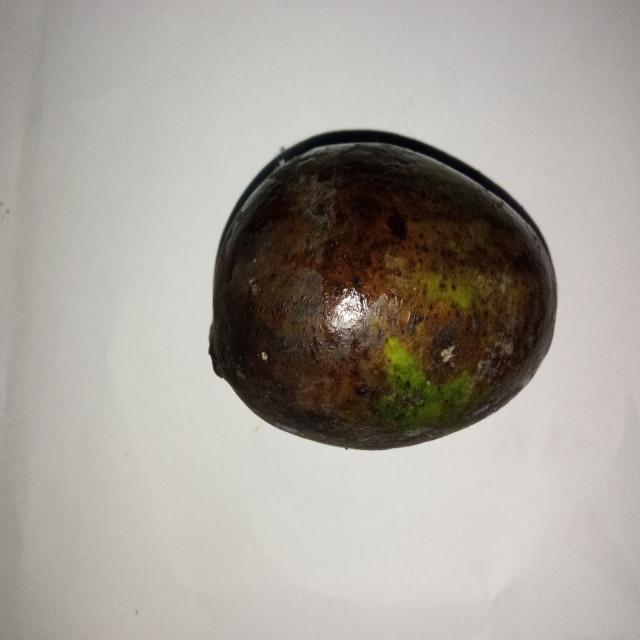rotten_mango: (206, 135, 556, 448)
